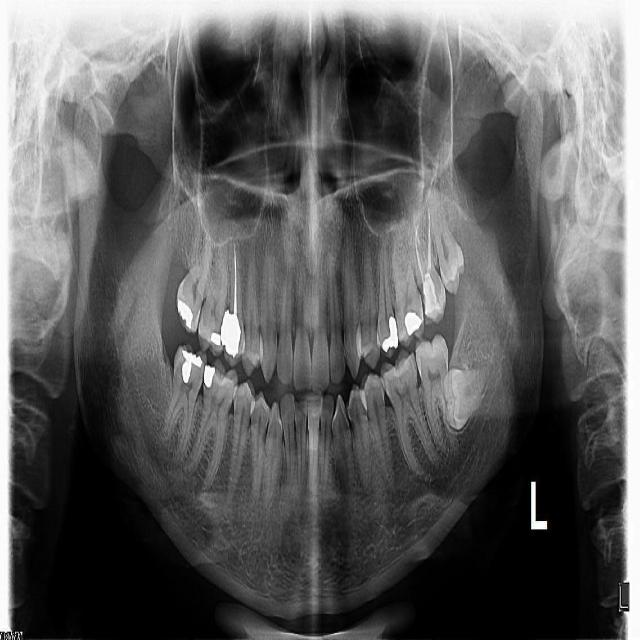74: (412, 223, 426, 285), (231, 245, 238, 315), (427, 209, 432, 275)
NucleOSS Implant: (218, 308, 243, 360), (174, 295, 198, 329), (180, 349, 202, 383), (380, 315, 399, 352), (404, 310, 424, 335), (202, 363, 216, 388), (210, 329, 223, 343)
Sterngold Implant: (396, 374, 407, 383)
Straumann Implant: (414, 273, 445, 325)
